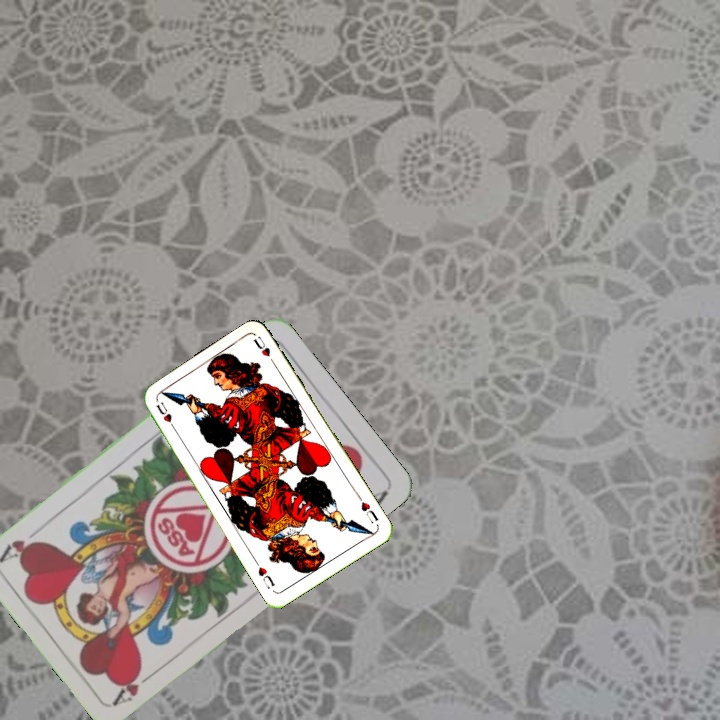HA: (109, 665, 161, 708)
HU: (354, 492, 381, 526), (152, 398, 174, 425)
